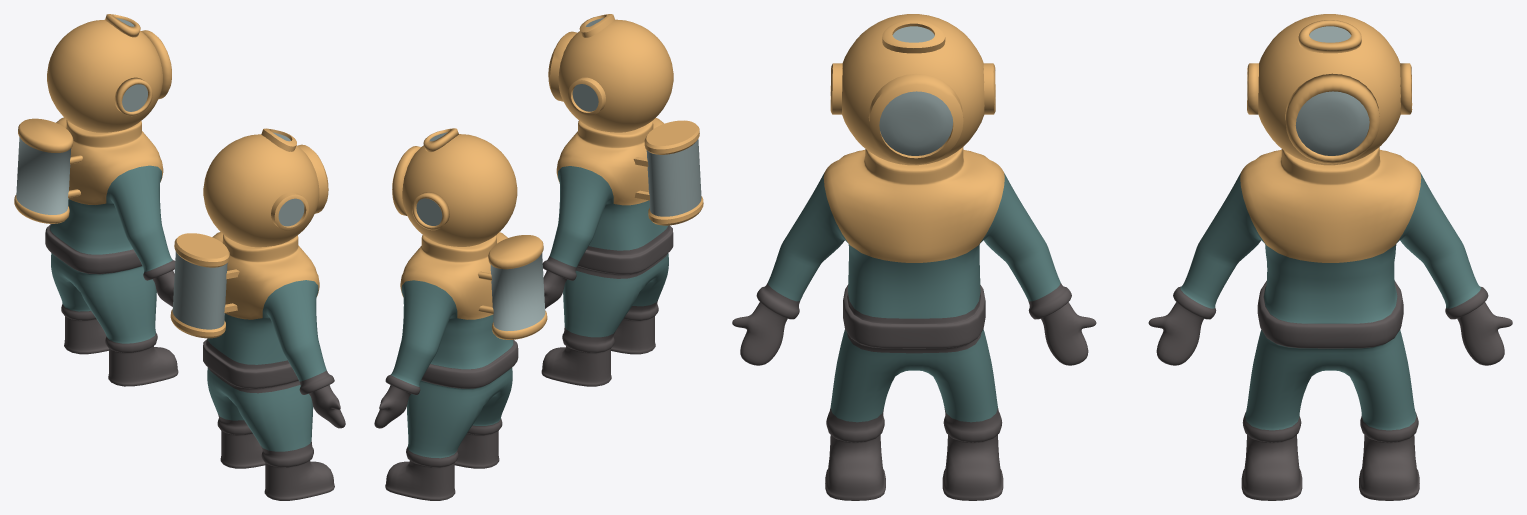
The model's file is buzo.fbx.
The picture shows the model from 3 angles, left to right: view 1: azimuth 30°, elevation 25°; view 2: azimuth 150°, elevation 25°; view 3: azimuth 270°, elevation 25°; orthographic projection. The views are drawn at different scales.
Parts seen in each view (by area): view 1: BodyCopy, BodyOG, HelmetOG, BackpackOG; view 2: BodyCopy, BodyOG, HelmetOG, BackpackOG; view 3: BodyCopy, BodyOG, HelmetOG.
Boxes of the visible parts, bbox=[...] form: BodyCopy: bbox=[14, 14, 178, 386]; BodyOG: bbox=[203, 232, 345, 500]; HelmetOG: bbox=[203, 128, 328, 247]; BackpackOG: bbox=[170, 233, 239, 338]; BodyCopy: bbox=[374, 128, 547, 500]; BodyOG: bbox=[541, 118, 673, 386]; HelmetOG: bbox=[548, 14, 673, 132]; BackpackOG: bbox=[633, 120, 703, 225]; BodyCopy: bbox=[1148, 14, 1512, 500]; BodyOG: bbox=[732, 147, 1096, 500]; HelmetOG: bbox=[830, 14, 995, 165].
Size of the model in its own units: 197 by 473 by 734.
